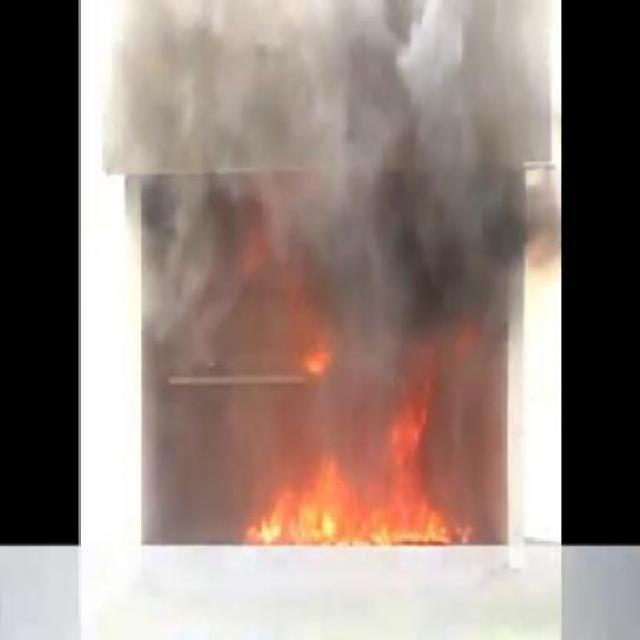fire: (246, 452, 446, 542)
smoke: (364, 23, 524, 329), (149, 212, 366, 361), (116, 23, 322, 162), (152, 376, 236, 541), (444, 372, 499, 518)
